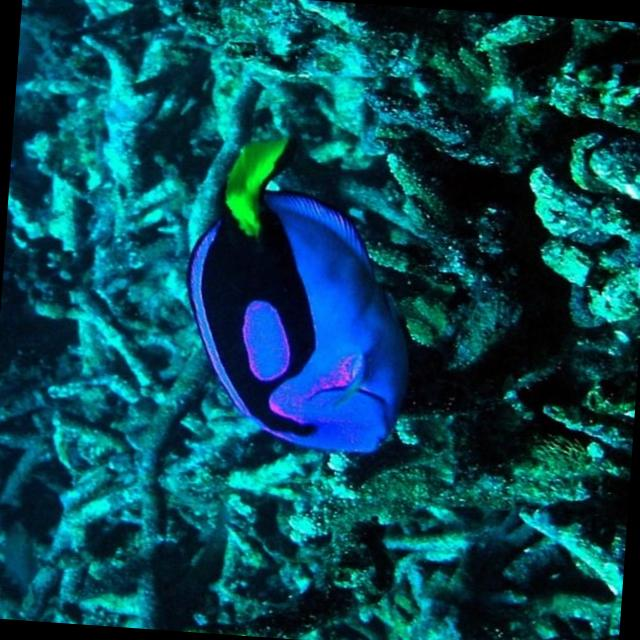BlueTang: (177, 106, 422, 462)
